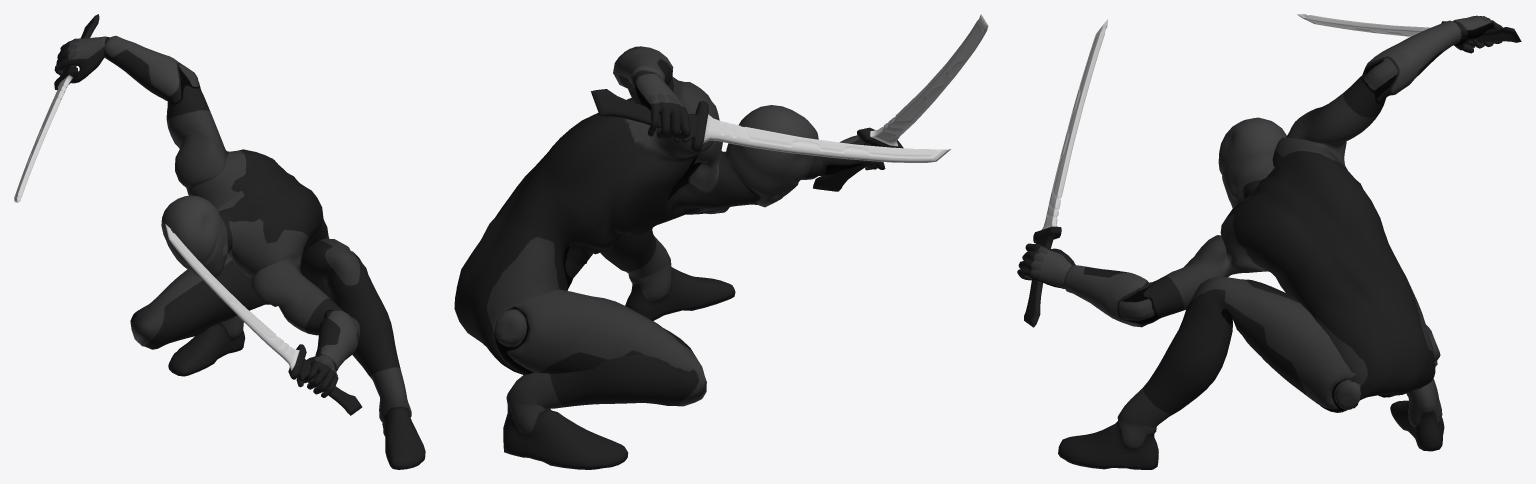
3 views of the same model, side by side, from view 1: azimuth 30°, elevation 25°; view 2: azimuth 150°, elevation 25°; view 3: azimuth 270°, elevation 25° (orthographic). The views are drawn at different scales.
Visible parts, largest first — view 1: Cyborg_Ninja_Killer, Sword_l, Sword_l001; view 2: Cyborg_Ninja_Killer, Sword_l001, Sword_l; view 3: Cyborg_Ninja_Killer, Sword_l, Sword_l001.
Boxes of the visible parts, box(x1,y1,x2,y2) form: Cyborg_Ninja_Killer: box(54, 35, 425, 469); Sword_l: box(165, 223, 362, 415); Sword_l001: box(14, 14, 99, 202); Cyborg_Ninja_Killer: box(454, 46, 885, 469); Sword_l001: box(591, 89, 950, 162); Sword_l: box(813, 14, 988, 191); Cyborg_Ninja_Killer: box(1017, 15, 1502, 469); Sword_l: box(1024, 19, 1107, 327); Sword_l001: box(1297, 14, 1521, 47).
Size of the model in its own units: 121 by 110 by 137.
2 materials, 2 textured.
